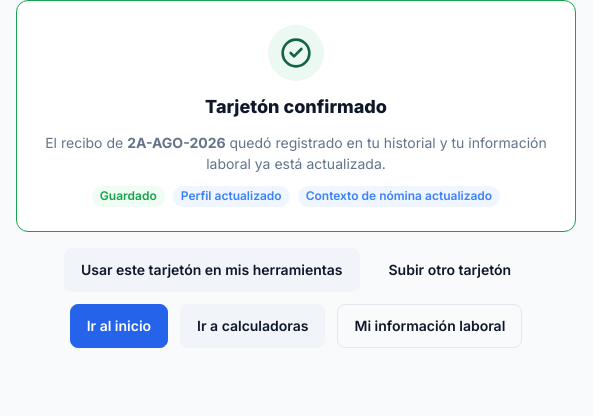
Test: Regresión: ImportSuccess y estado fijado vs guardado › distingue estado guardado del estado fijado: muestra fallo visible al fijar
expect the text "Guardado" is shown: met, box [92,186,165,207]
Intentar fijar el tarjetón
Click the button "Usar este tarjetón en mis herramientas" at (212, 270), box [64,248,360,292]
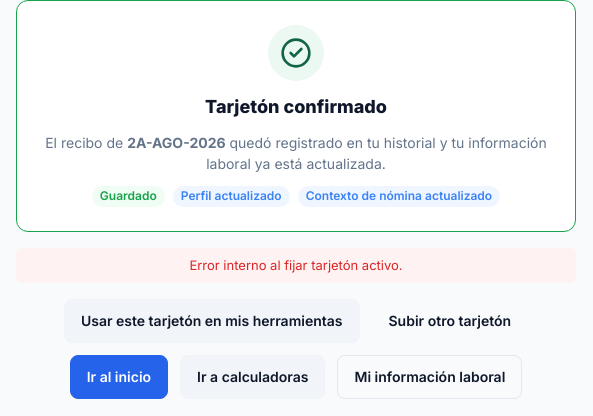
expect the message "Error interno al fijar tarjetón activo." is shown: met, box [16,248,576,283]
expect the message reads "Error interno al fijar tarjetón activo.": met, box [189,257,403,273]
